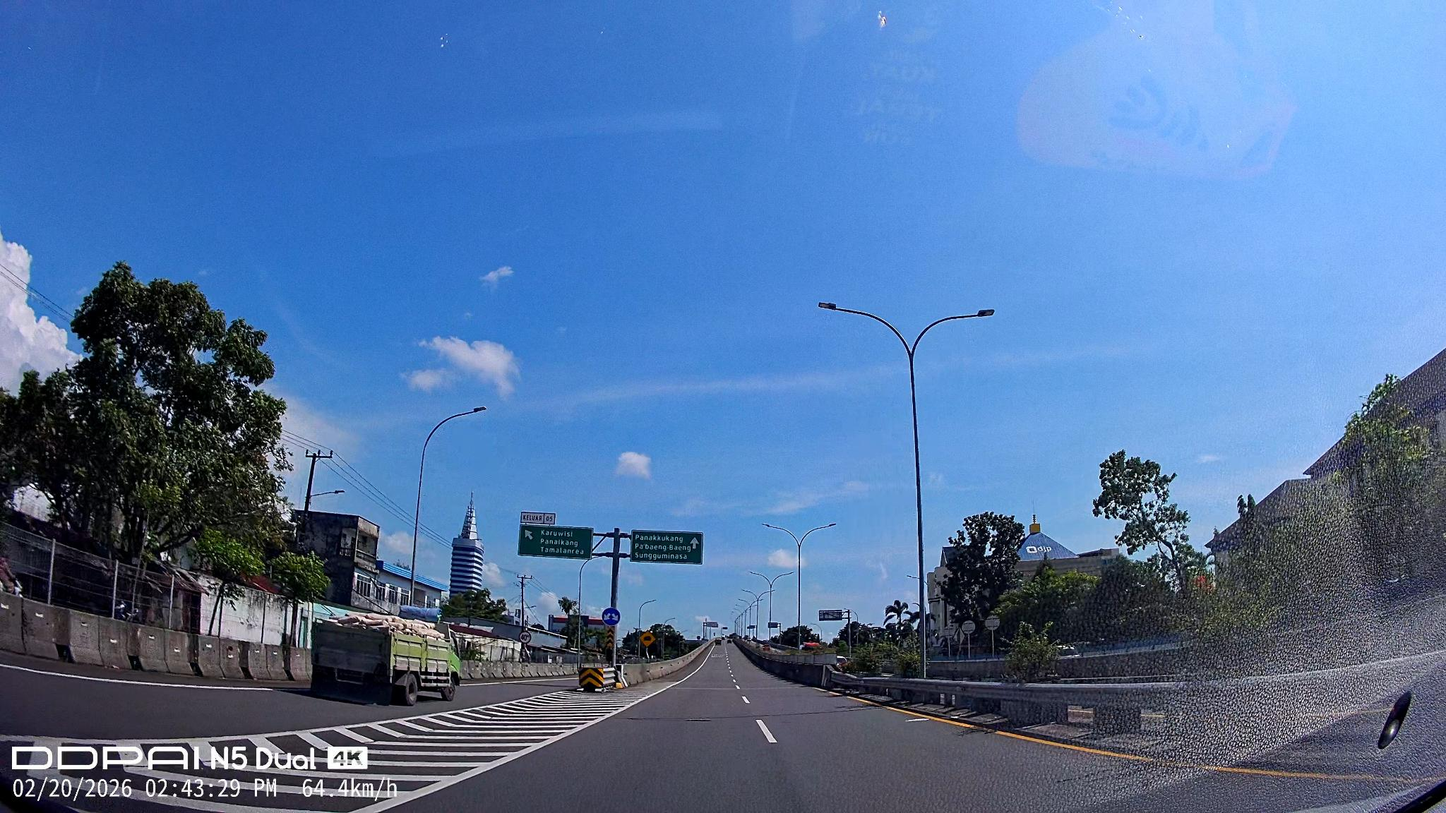rambu_teks: (518, 524, 594, 560), (630, 529, 703, 565)
